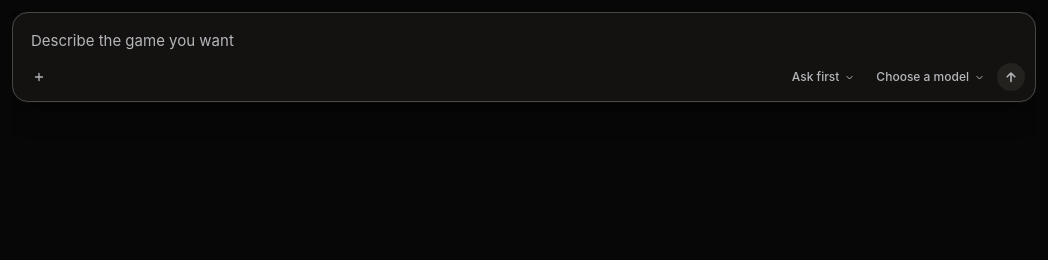
Scenario: the permission pill at rest › ticks the row the project is actually on
The image size is (1048, 260).
Click the button with aria-label "Permissions": (823, 77) [783, 63, 863, 91]
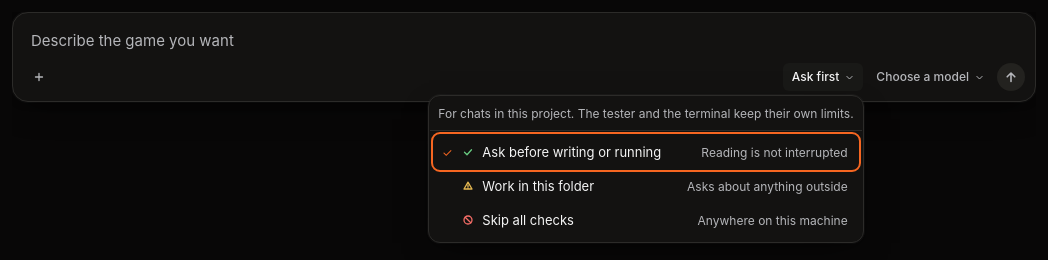
Now the menu item "✓ Ask before writing or running Reading is not interrupted" is shown, box [434, 135, 858, 169]
